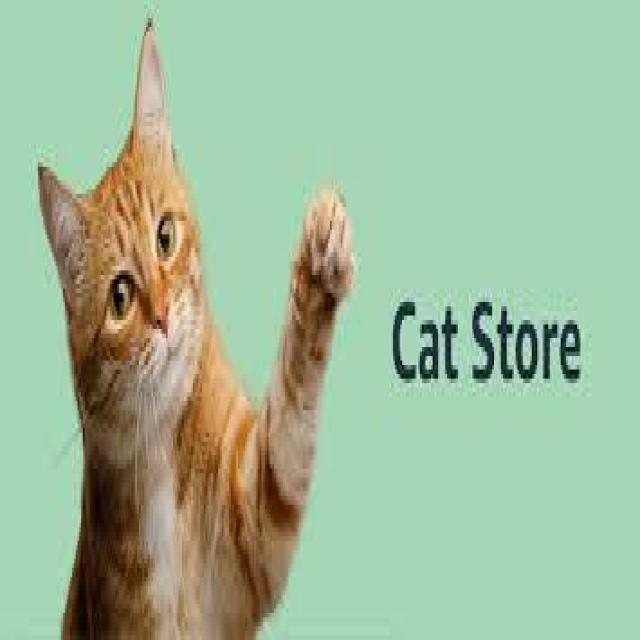Cat: (28, 10, 210, 466)
